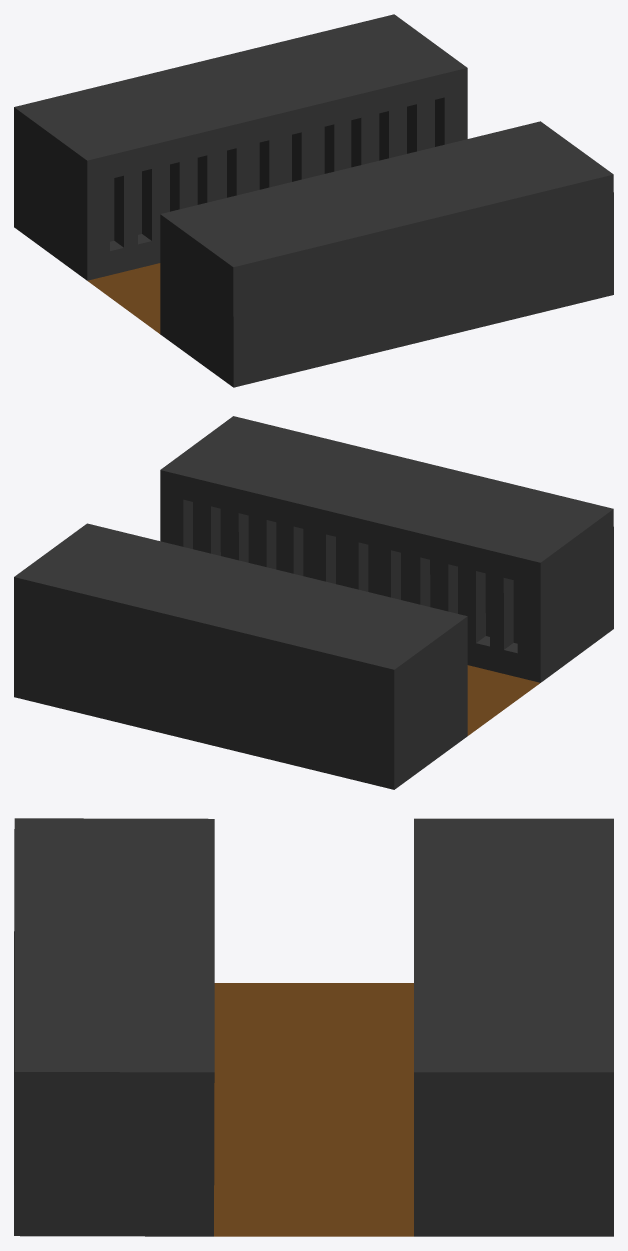
Rendered from straight.fbx.
The picture shows the model from 3 angles, top to bottom: view 1: azimuth 30°, elevation 25°; view 2: azimuth 150°, elevation 25°; view 3: azimuth 270°, elevation 25°; orthographic projection. The views are drawn at different scales.
Visible parts, largest first — view 1: Straight; view 2: Straight; view 3: Straight.
Boxes of the visible parts, x1,y1,x2,y2 form: Straight: (14, 14, 613, 387); Straight: (14, 416, 613, 789); Straight: (14, 818, 613, 1236).
Bounding box in the file's own units: 200 × 60.61 × 200.
